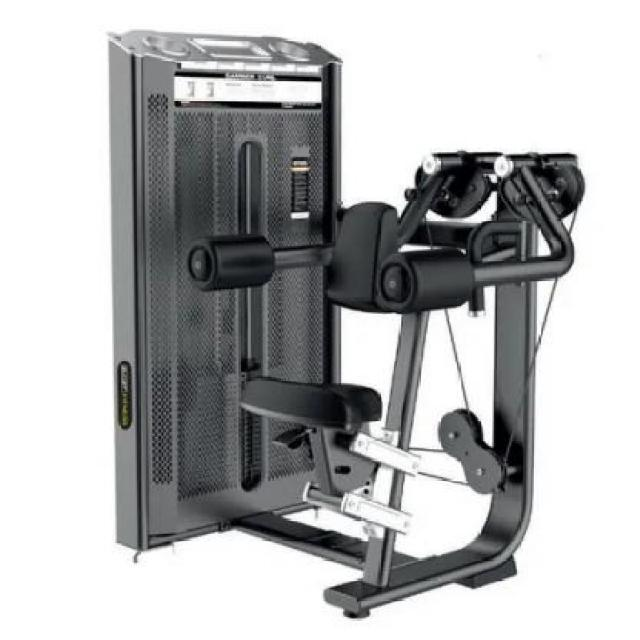lateral raises machine: (105, 23, 584, 620)
